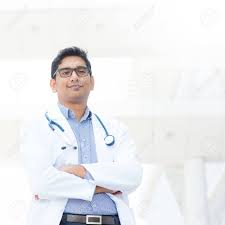Indian_Male: (47, 48, 98, 106)
